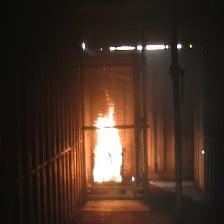fire: (84, 101, 129, 190)
